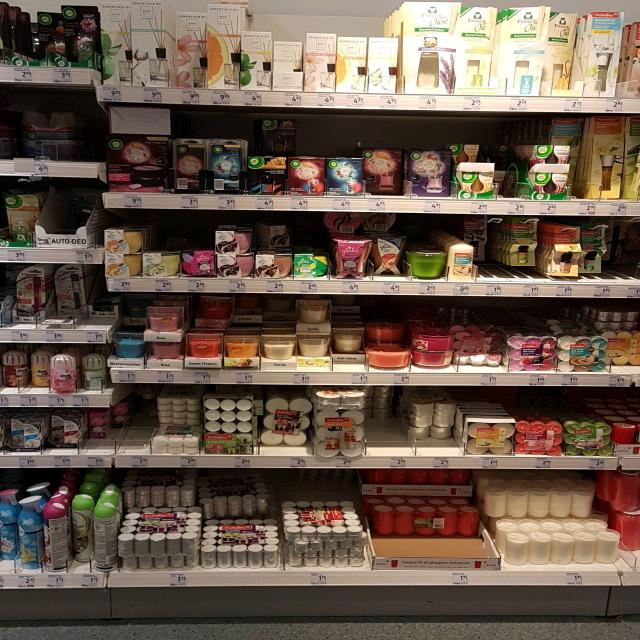empty: (43, 189, 92, 239), (133, 390, 155, 439)
